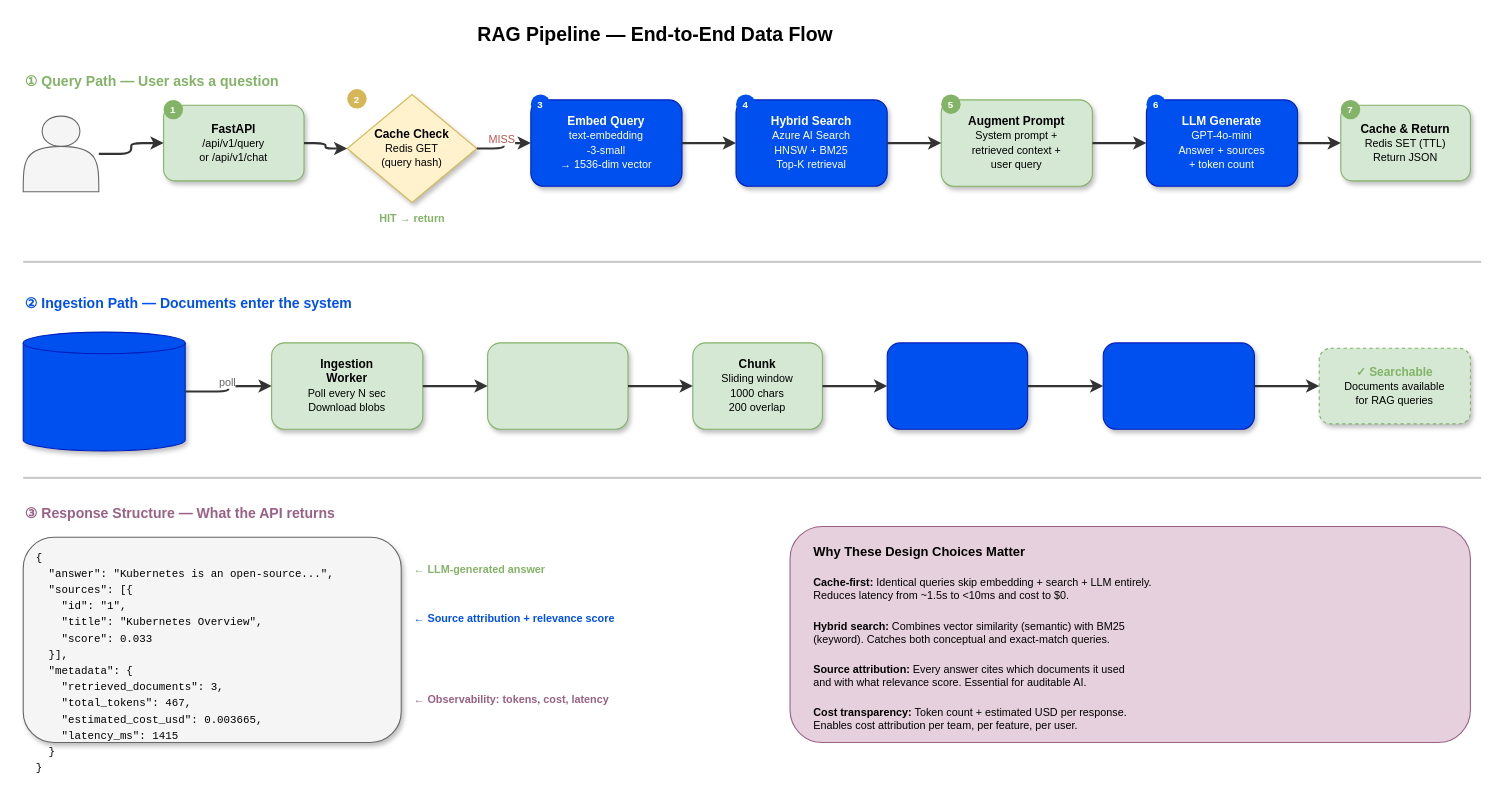
The diagram is 1501 pixels wide and 795 high, and some of its shapes have lost their labels. The centre of each missing label's shape, as x and y in pixels:
"Azure Blob Storage documents container .txt .md .csv .json .log" belongs at point 105,392.
"Embed text-embedding -3-small Batched API call" belongs at point 958,387.
"Extract Text Parse file content into raw text" belongs at point 558,387.
"Upsert Index Azure AI Search HNSW index rag-documents" belongs at point 1179,387.
"User Query or Chat" belongs at point 60,153.
